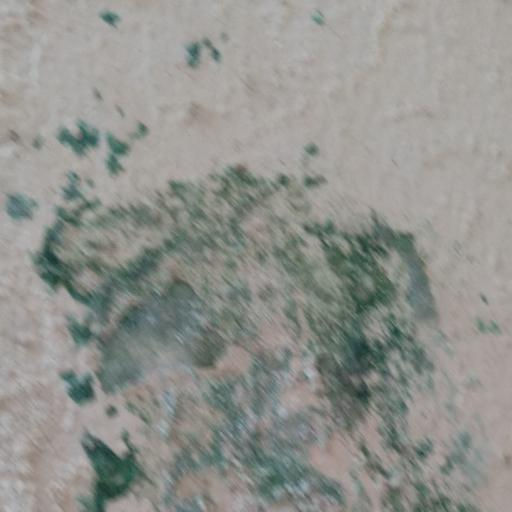algae: (54, 127, 512, 512)
